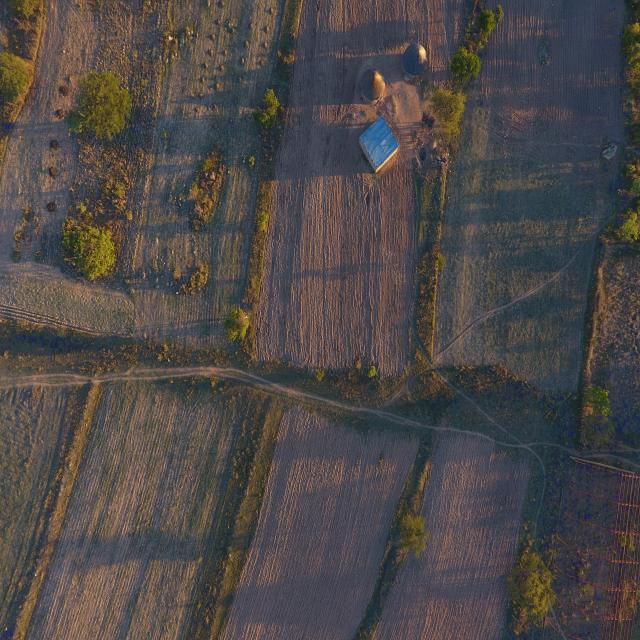boundaries: (1, 300, 605, 639), (391, 15, 500, 345), (225, 10, 315, 317)
